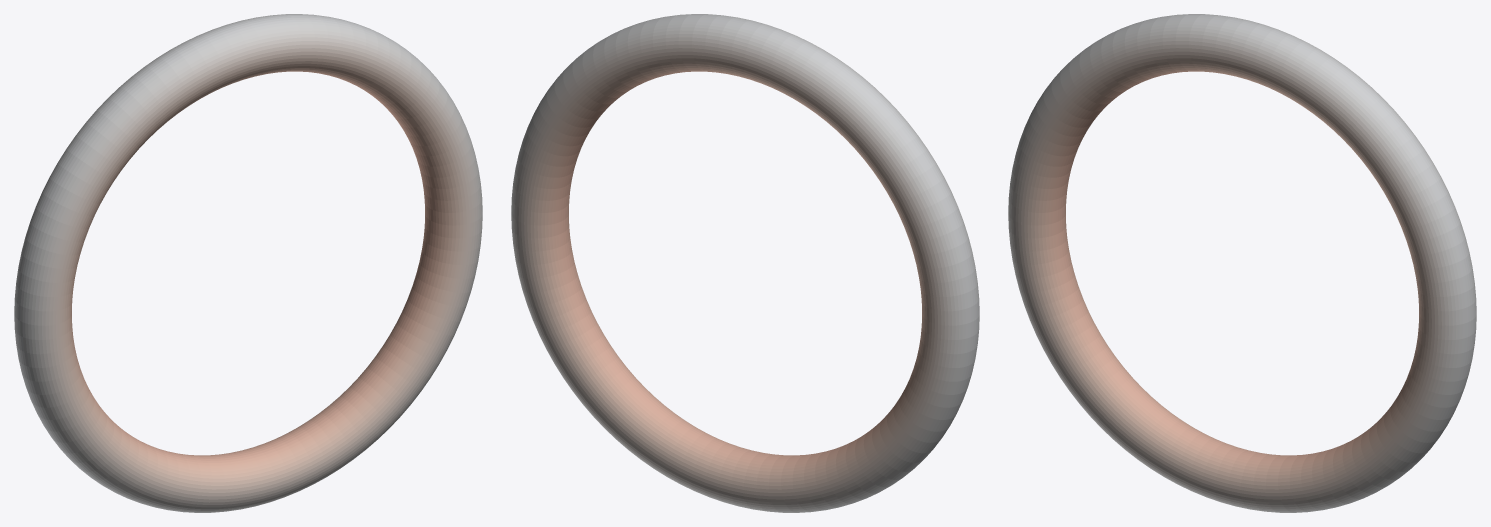
The picture shows the model from 3 angles, left to right: view 1: azimuth 30°, elevation 25°; view 2: azimuth 150°, elevation 25°; view 3: azimuth 330°, elevation 25°; orthographic projection.
Parts seen in each view (by area): view 1: world; view 2: world; view 3: world.
Boxes of the visible parts, x1,y1,x2,y2 form: world: (14,14,482,512); world: (511,14,979,512); world: (1008,14,1476,512).
Size of the model in its own units: 20.93 by 20.93 by 2.26.
